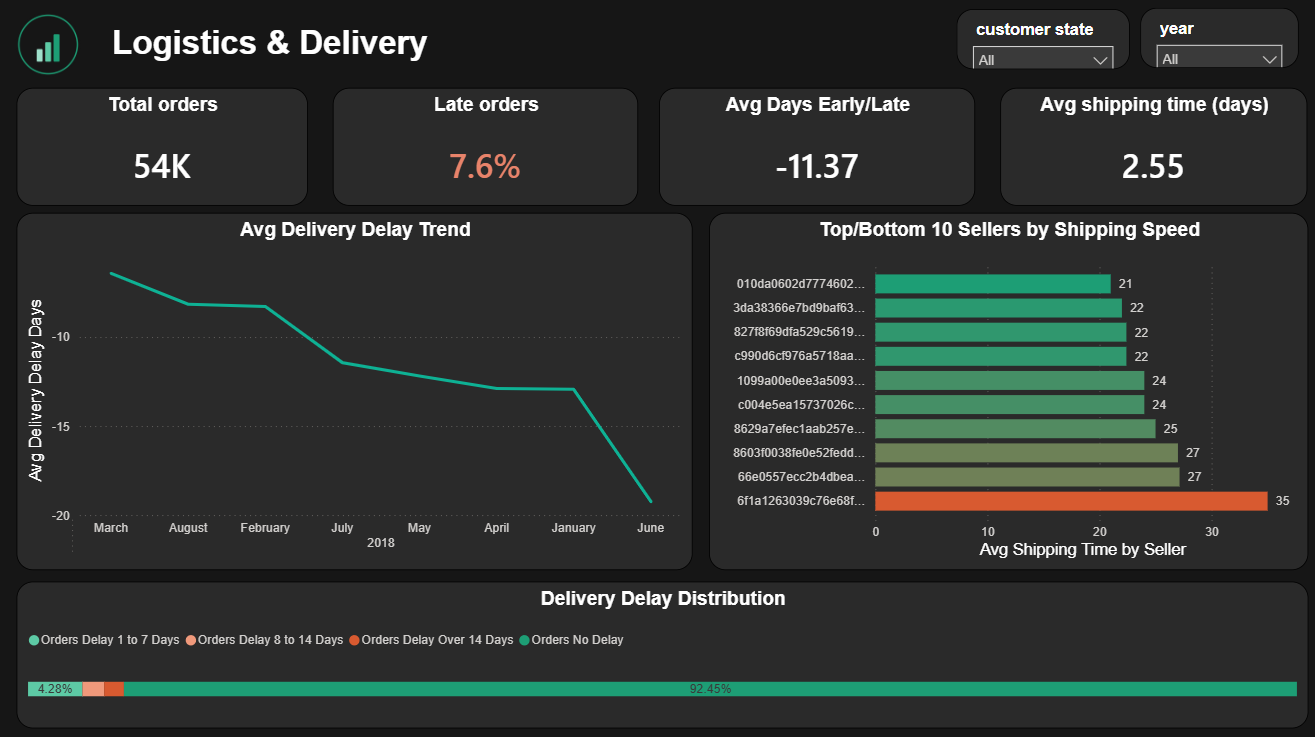

The dashboard page shown, as its layout file describes it:
{"tool":"powerbi","page":{"name":"Logistics & Delivery","canvas":[1280,720],"ordinal":3},"visuals":[{"type":"cardVisual","title":"Total orders","fields":{"Data":["_Measures.Total Orders"]},"box":[16.7,85.9,282.2,114.2],"z":0},{"type":"cardVisual","title":"Avg shipping time (days)","fields":{"Data":["_Measures.Avg Shipping Time Days"]},"box":[969.8,85.9,297.6,114.2],"z":1000},{"type":"cardVisual","title":"Avg Days Early/Late","fields":{"Data":["_Measures.Avg Delivery Delay Days"]},"box":[640.1,85.9,306.6,114.2],"z":2000},{"type":"slicer","fields":{"Values":["dim_date.year"]},"box":[1106.1,8.2,153.7,58.2],"z":3000},{"type":"slicer","fields":{"Values":["dim_customer.customer_state"]},"box":[927.5,10,167.7,58.2],"z":4000},{"type":"lineChart","title":"Avg Delivery Delay Trend","fields":{"Category":["dim_date.year","dim_date.month_name"],"Y":["_Measures.Avg Delivery Delay Days"]},"box":[16.7,206.5,655.5,346.4],"z":5000},{"type":"clusteredBarChart","title":"Top/Bottom 10 Sellers by Shipping Speed ","fields":{"Category":["dim_seller.seller_id"],"Y":["_Measures.Avg Shipping Time by Seller"]},"box":[687.6,206.5,581.1,346.4],"z":6000},{"type":"hundredPercentStackedBarChart","title":"Delivery Delay Distribution","fields":{"Y":["_Measures.Orders Delay 1 to 7 Days","_Measures.Orders Delay 8 to 14 Days","_Measures.Orders Delay Over 14 Days","_Measures.Orders No Delay"]},"box":[16.7,564.4,1252,142.4],"z":7000},{"type":"textbox","box":[95.7,19.4,397.5,95],"z":8000},{"type":"cardVisual","title":"Late orders","fields":{"Data":["_Measures.% Late Orders"]},"box":[323.3,85.9,296.3,114.2],"z":9000},{"type":"image","box":[0,10.9,95.7,66.6],"z":10000}]}

Visuals, with their boxes in screenshot pixels (x1, y1, x2, y2), scaled from the page's 1280x720 canvas onto the 1315x737 screenshot:
"Total orders" cardVisual: l=17, t=88, r=307, b=205
"Avg shipping time (days)" cardVisual: l=996, t=88, r=1302, b=205
"Avg Days Early/Late" cardVisual: l=658, t=88, r=973, b=205
slicer - dim_date.year: l=1136, t=8, r=1294, b=68
slicer - dim_customer.customer_state: l=953, t=10, r=1125, b=70
"Avg Delivery Delay Trend" lineChart: l=17, t=211, r=691, b=566
"Top/Bottom 10 Sellers by Shipping Speed " clusteredBarChart: l=706, t=211, r=1303, b=566
"Delivery Delay Distribution" hundredPercentStackedBarChart: l=17, t=578, r=1303, b=723
textbox: l=98, t=20, r=507, b=117
"Late orders" cardVisual: l=332, t=88, r=637, b=205
image: l=0, t=11, r=98, b=79
